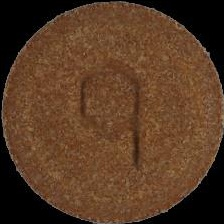54868-5326: (0, 0, 224, 224)
